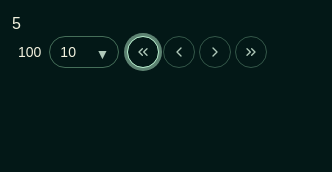
Test case: decorated pagination retains keyboard navigation and disables boundary actions
Press Enter
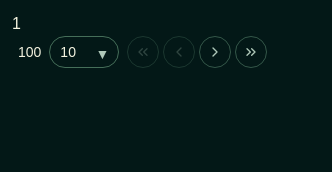
Expected: the text named "Current page" reads "1", [12,15,21,32]
Expected: the 2nd button named "Go to previous page" is disabled, [163,36,195,68]
Click the 4th button named "Go to last page". click: (251, 52)
box: [235,36,267,68]
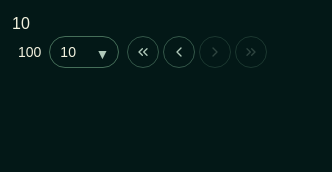
Expected: the text named "Current page" reads "10", [12,15,30,32]
Expected: the 3rd button named "Go to next page" is disabled, [199,36,231,68]
